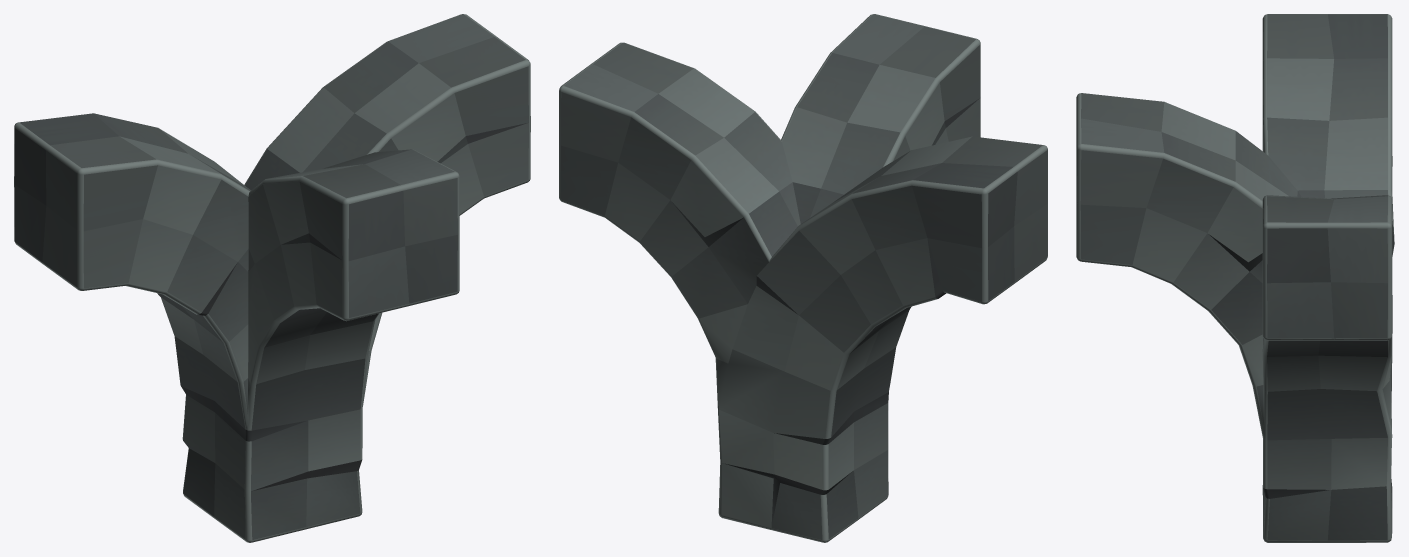
Rendered from tavern_cellar_arch_3.fbx.
The picture shows the model from 3 angles, left to right: view 1: azimuth 30°, elevation 25°; view 2: azimuth 150°, elevation 25°; view 3: azimuth 270°, elevation 25°; orthographic projection. The views are drawn at different scales.
Parts seen in each view (by area): view 1: tavern_cellar_arch_3_LOD0; view 2: tavern_cellar_arch_3_LOD0; view 3: tavern_cellar_arch_3_LOD0.
Part boxes in pixels (x1,y1,x2,y2): tavern_cellar_arch_3_LOD0: (14,14,530,542); tavern_cellar_arch_3_LOD0: (559,14,1047,542); tavern_cellar_arch_3_LOD0: (1076,14,1394,542).
Size of what is drawn, in the model's own units: 404 by 354 by 256.
